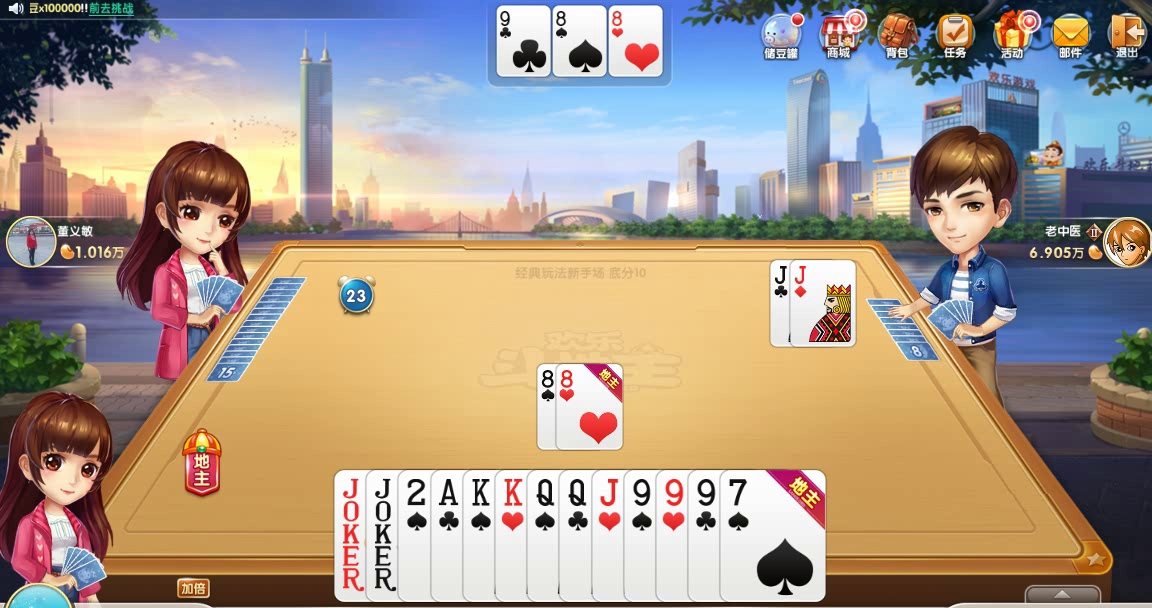11~1: (791, 261, 858, 347)
11~2: (770, 260, 837, 346)
11~3: (591, 469, 699, 601)
12~2: (559, 469, 667, 601)
12~4: (525, 469, 633, 601)
13~3: (494, 469, 602, 601)
13~4: (461, 469, 569, 601)
14~2: (430, 469, 538, 601)
15~4: (396, 469, 504, 601)
17~3: (363, 469, 471, 601)
18~4: (333, 469, 441, 601)
7~4: (719, 470, 827, 602)
8~3: (556, 363, 623, 451), (606, 5, 662, 76)
8~4: (538, 363, 605, 451), (551, 5, 607, 76)
9~2: (686, 468, 794, 600), (495, 5, 551, 76)
9~3: (623, 468, 731, 600)
9~4: (622, 469, 730, 601)
